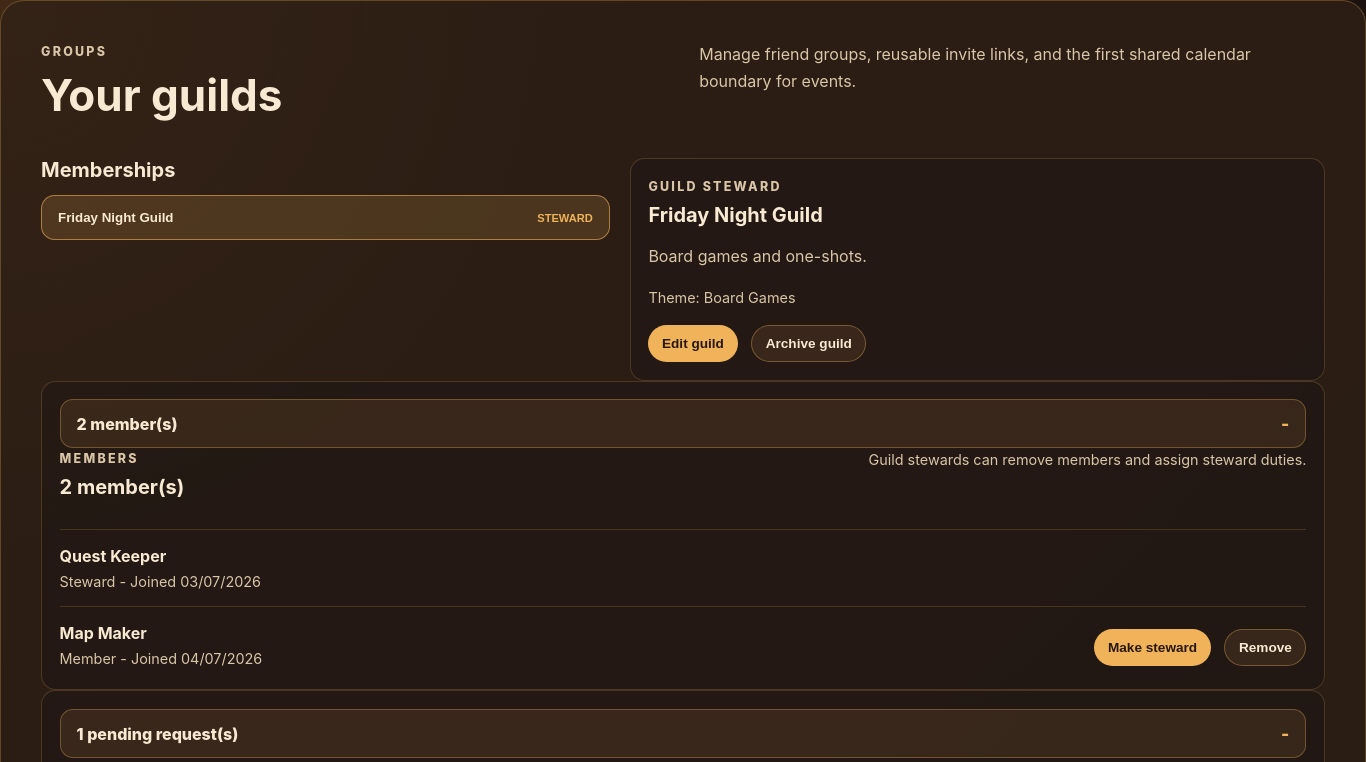
Scenario: GroupsPage › lets guild stewards promote and demote other members
Click the button "Make steward" at coordinates (1153, 648), box [1094,629,1211,666]
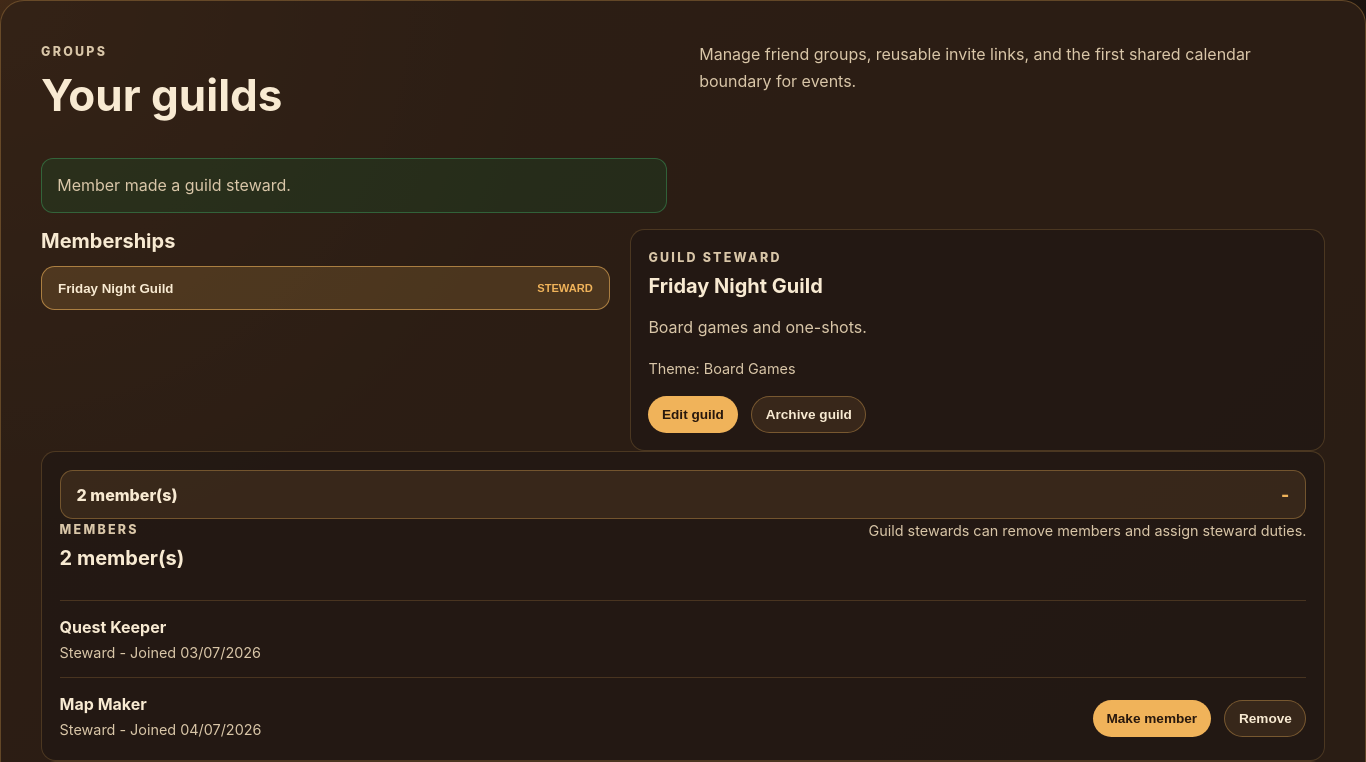
Check: the text "Member made a guild steward." is shown, box [41,158,667,213]
Click the button "Make member" at coordinates (1152, 718), box [1093,700,1211,737]
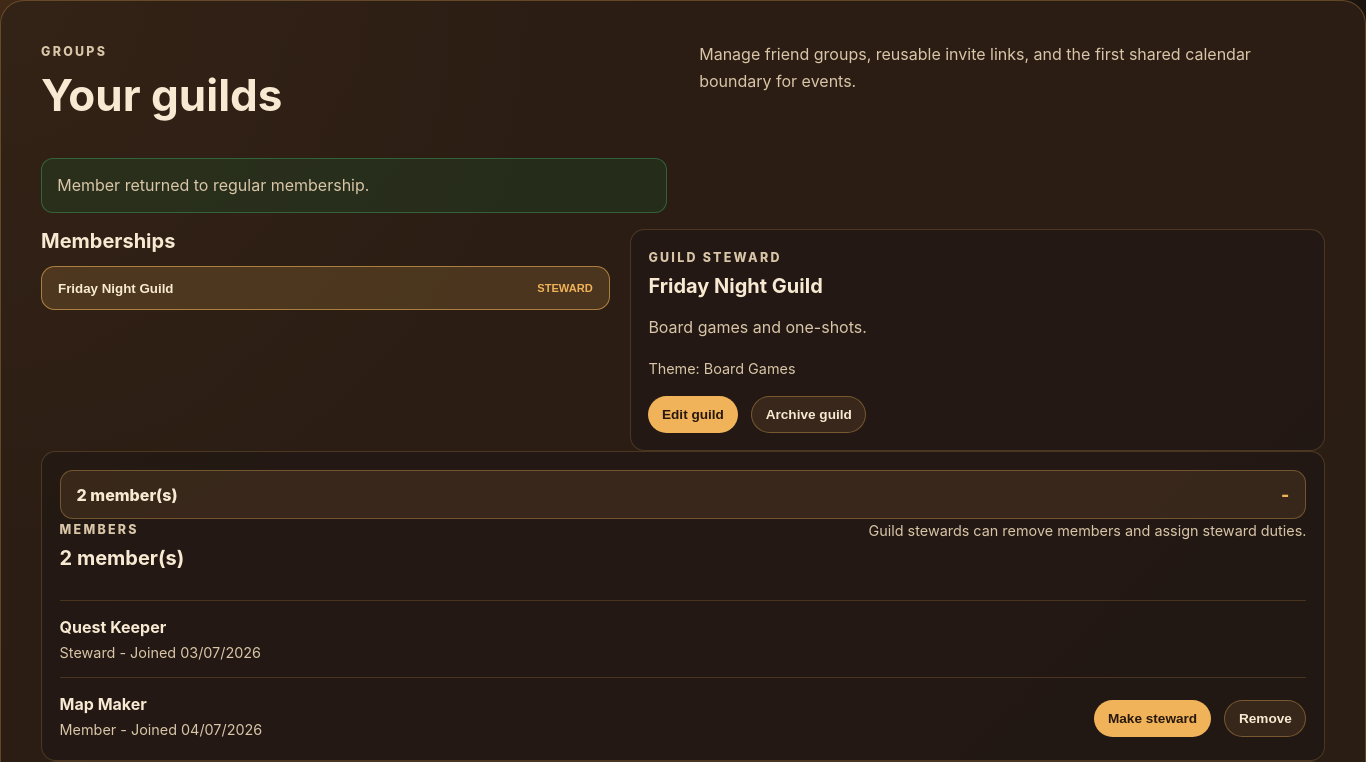
Check: the text "Member returned to regular membership." is shown, box [41,158,667,213]
